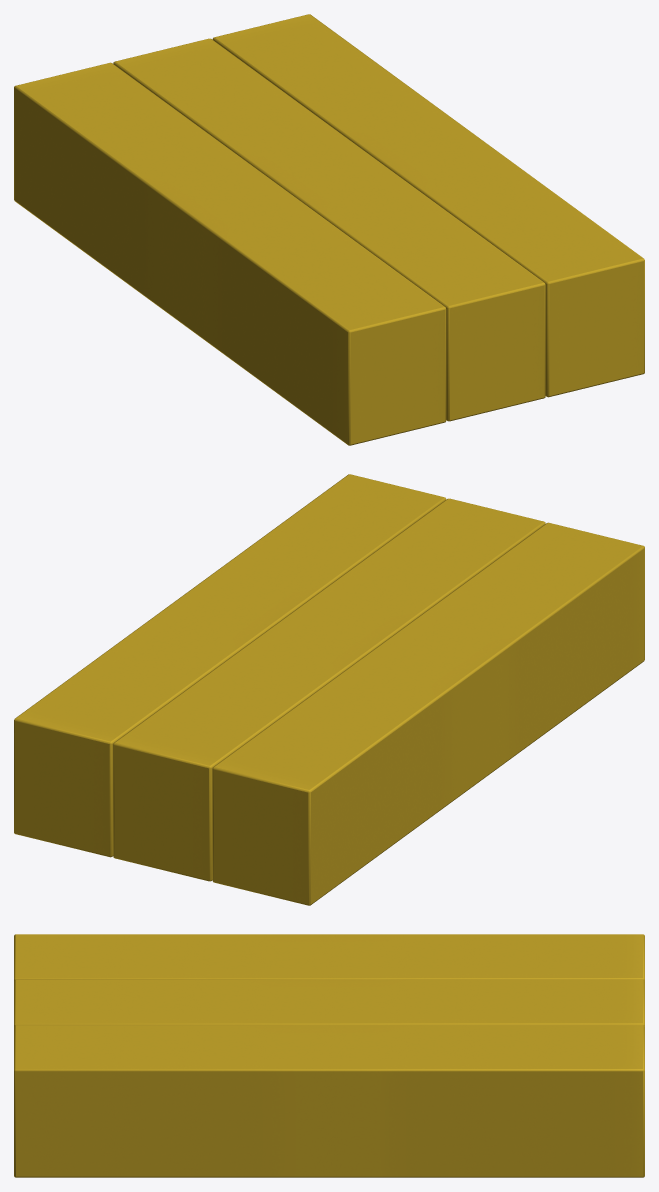
Rendered from 4-left-toy-leg-course-2.fbx.
The picture shows the model from 3 angles, top to bottom: view 1: azimuth 30°, elevation 25°; view 2: azimuth 150°, elevation 25°; view 3: azimuth 270°, elevation 25°; orthographic projection. The views are drawn at different scales.
Parts seen in each view (by area): view 1: left-toy-leg-course-2; view 2: left-toy-leg-course-2; view 3: left-toy-leg-course-2.
Boxes of the visible parts, x1,y1,x2,y2 form: left-toy-leg-course-2: (14, 14, 644, 445); left-toy-leg-course-2: (14, 474, 644, 905); left-toy-leg-course-2: (14, 934, 644, 1177).
Size of the model in its own units: 4085 by 1520 by 8000.
1 material, 1 textured.
